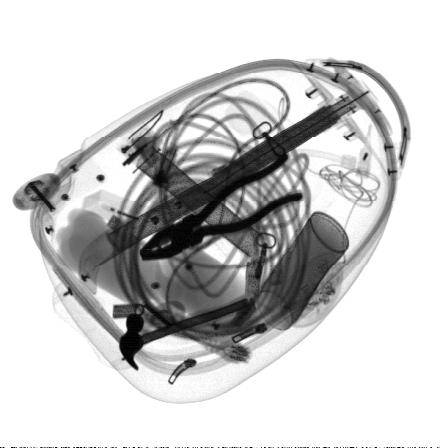Hammer: (119, 294, 251, 371)
Pliers: (139, 151, 305, 262)
